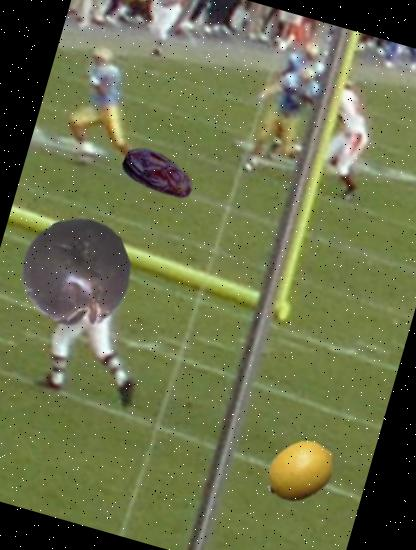Dates: (112, 127, 205, 220)
Lemon: (255, 427, 345, 516)
Passion: (7, 206, 144, 342)
